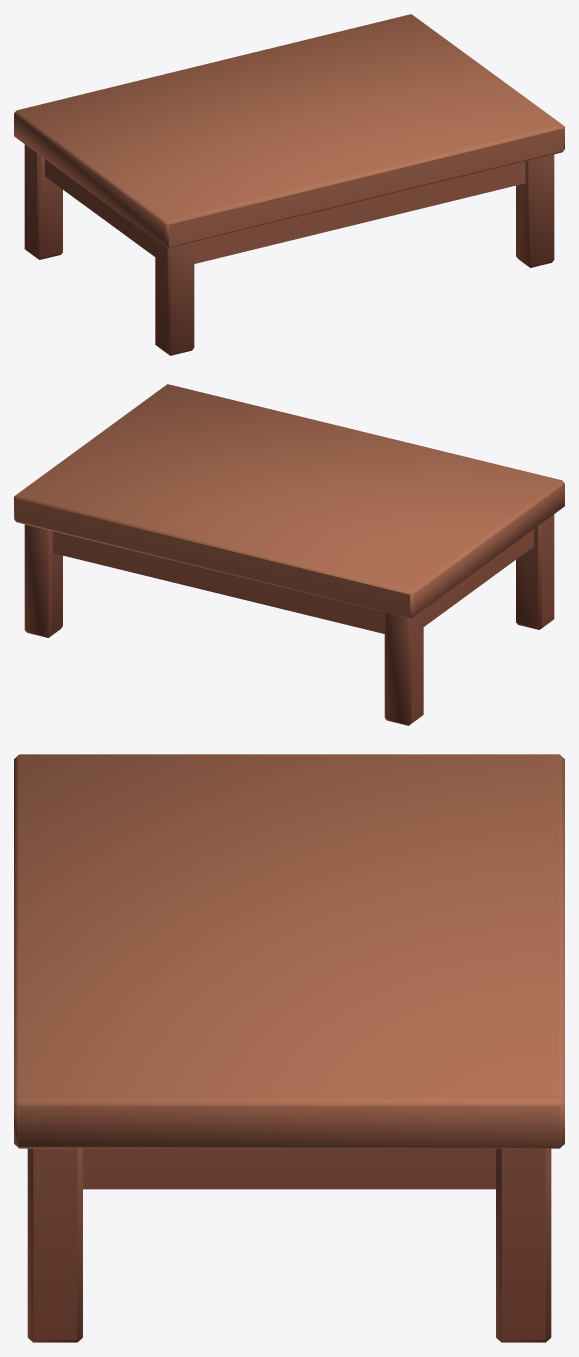
The model's file is meeting-table.glb.
The picture shows the model from 3 angles, top to bottom: view 1: azimuth 30°, elevation 25°; view 2: azimuth 150°, elevation 25°; view 3: azimuth 270°, elevation 25°; orthographic projection. The views are drawn at different scales.
Parts seen in each view (by area): view 1: table_medium_long; view 2: table_medium_long; view 3: table_medium_long.
Part boxes in pixels (x1=…): table_medium_long: x1=14, y1=14, x2=564, y2=355; table_medium_long: x1=14, y1=384, x2=564, y2=725; table_medium_long: x1=14, y1=754, x2=564, y2=1342.
Bounding box in the file's own units: 3 × 1 × 2.
Materials: 1 (1 with a texture image).
